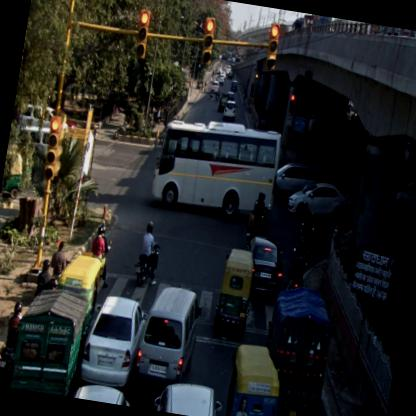bus: (148, 110, 284, 224)
car: (133, 282, 205, 388), (79, 292, 150, 388), (236, 234, 288, 304), (285, 176, 352, 224), (151, 378, 226, 415), (272, 156, 320, 207), (222, 97, 238, 123), (218, 98, 228, 112), (210, 80, 218, 94), (230, 80, 237, 92)
motorcycle: (0, 297, 26, 387), (134, 221, 166, 290), (87, 224, 111, 285), (246, 189, 276, 236), (209, 86, 215, 100), (214, 88, 221, 100)
truck: (253, 285, 339, 415), (10, 284, 88, 396)
